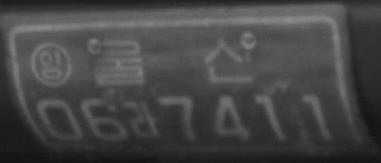0: (35, 97, 84, 142)
1: (252, 91, 291, 144), (296, 93, 337, 143)
4: (211, 93, 251, 143)
6: (84, 96, 127, 143)
7: (160, 94, 198, 144)
라: (127, 98, 159, 141)
영: (31, 42, 72, 88)
울산_D: (90, 31, 254, 85)
